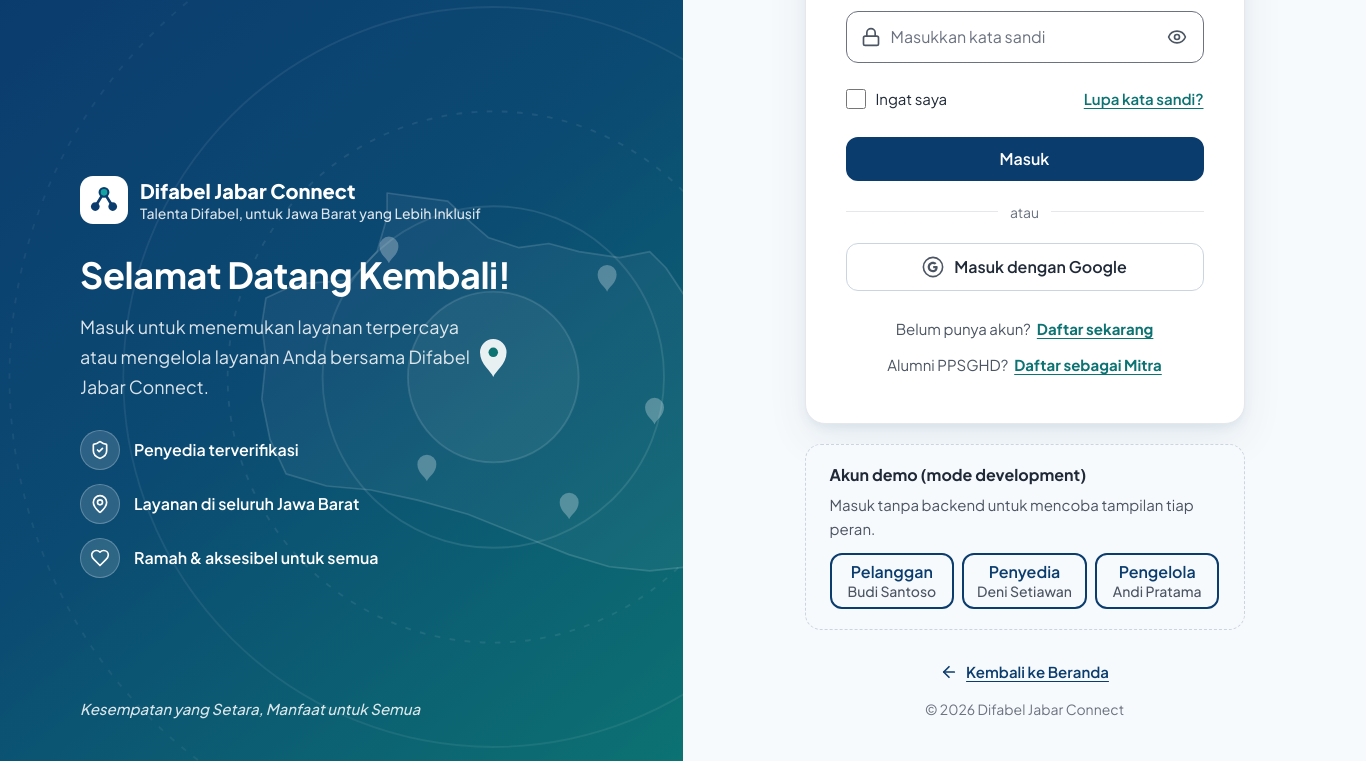
Test case: Halaman Masuk › akun demo (mode development) langsung masuk sesuai peran
(page scrolled)
Click the button "Pelanggan Budi Santoso". click: click(892, 581)
box: [830,553,954,609]
(page scrolled)
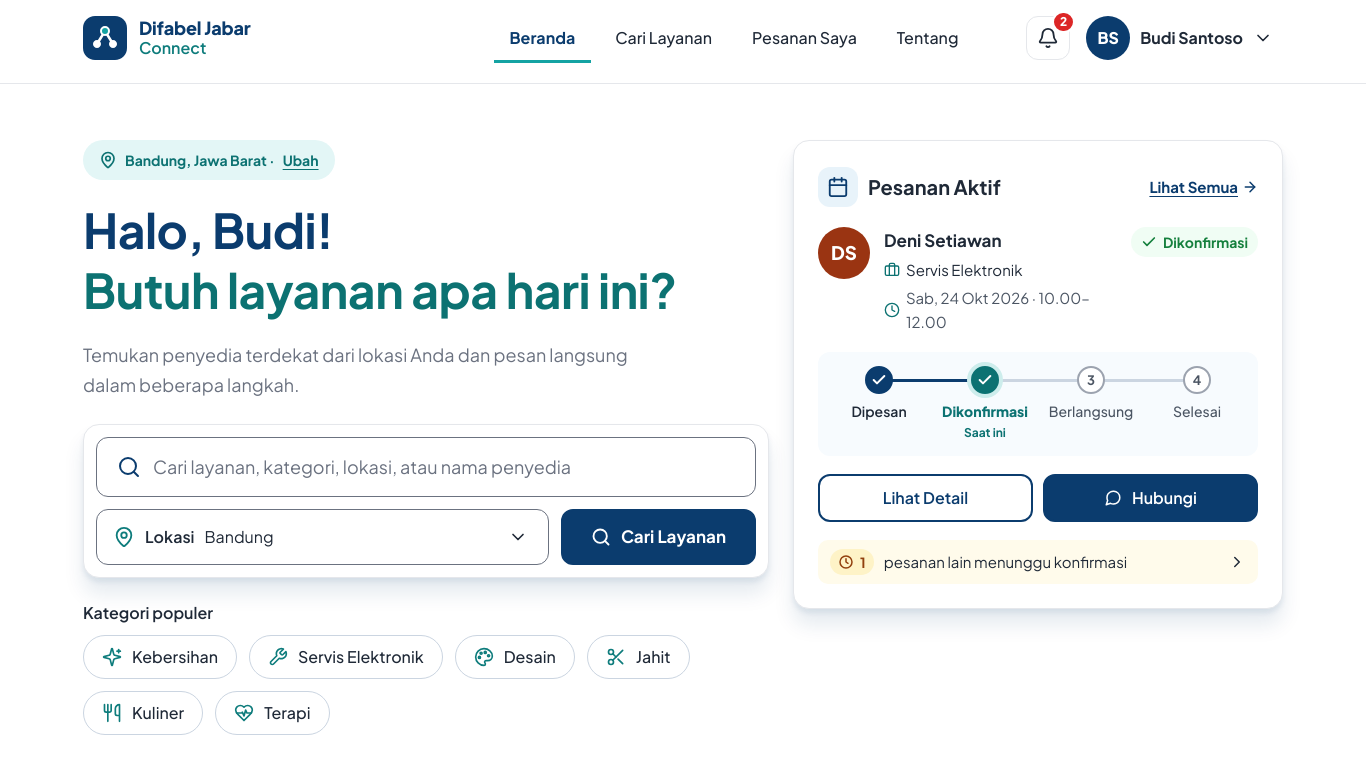
Result: the heading "Halo, Budi! Butuh layanan apa hari ini?" is shown at [83,200,763,320]
